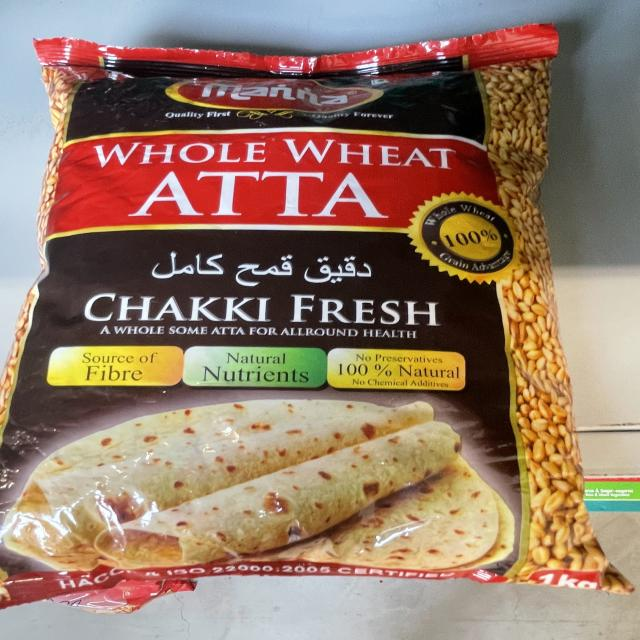object_name: (34, 40, 594, 594)
